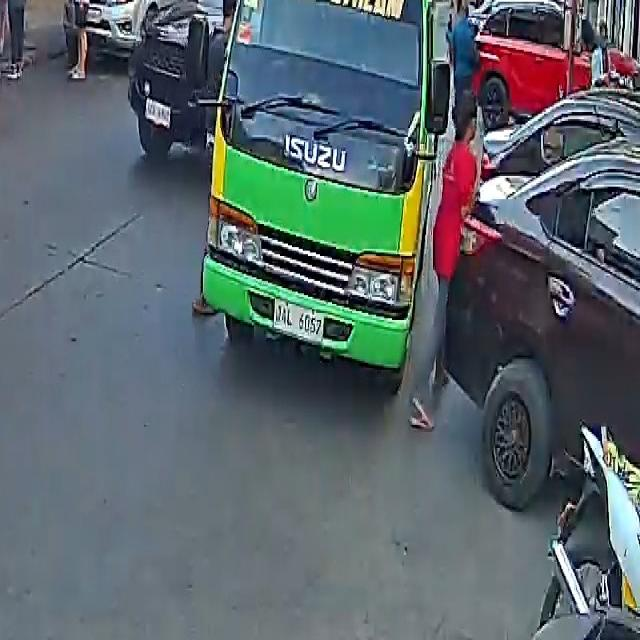car: (452, 92, 640, 526), (127, 0, 254, 178), (466, 0, 640, 100), (69, 0, 199, 60)
